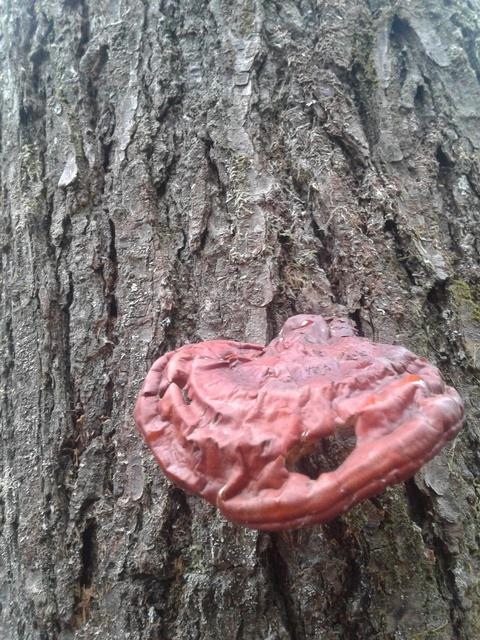Non-edible Mushroom: (132, 312, 467, 532)
